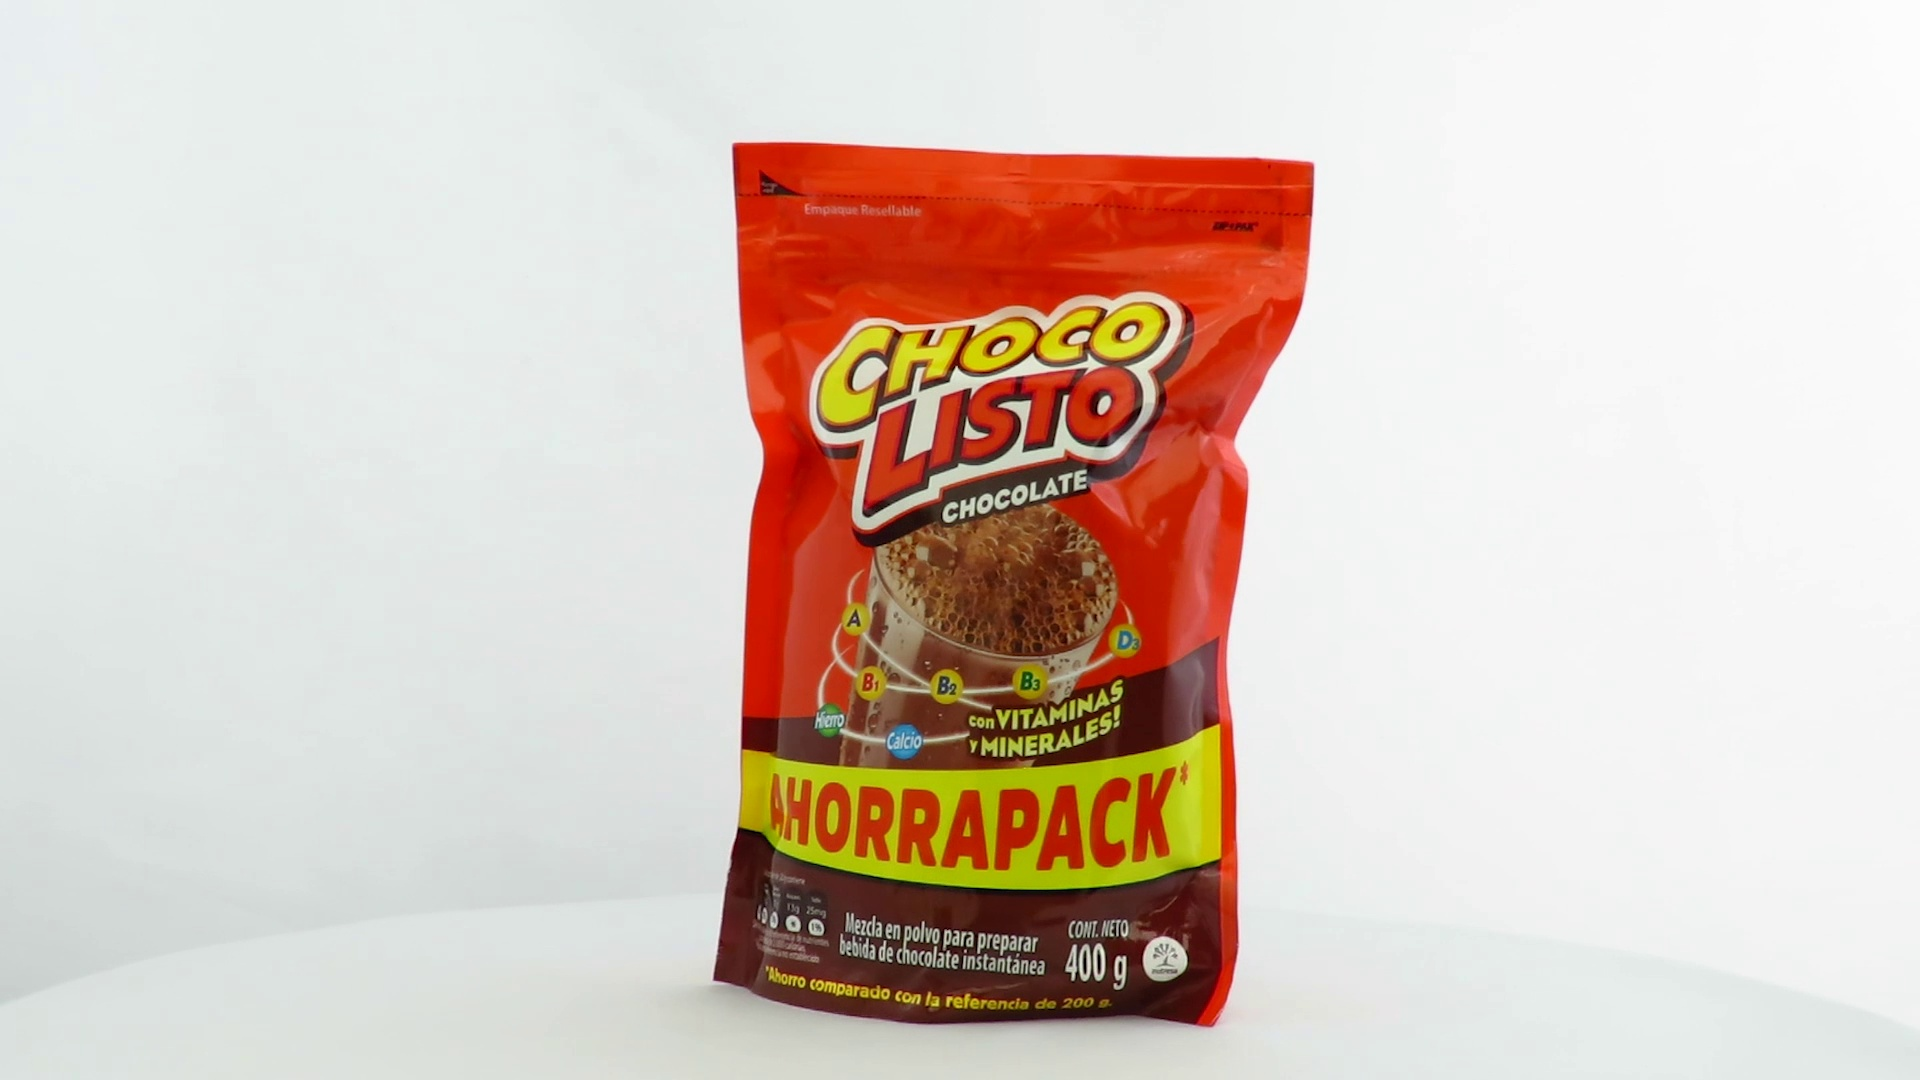COL0170103DYP40000: (708, 137, 1321, 1034)
